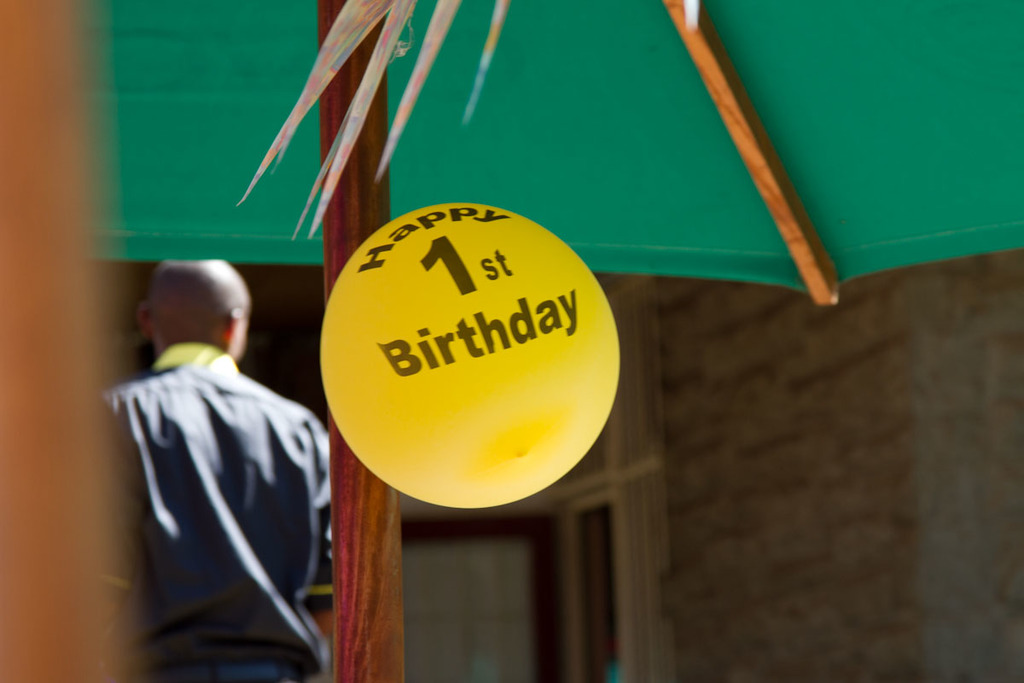Ball: (324, 202, 616, 512)
